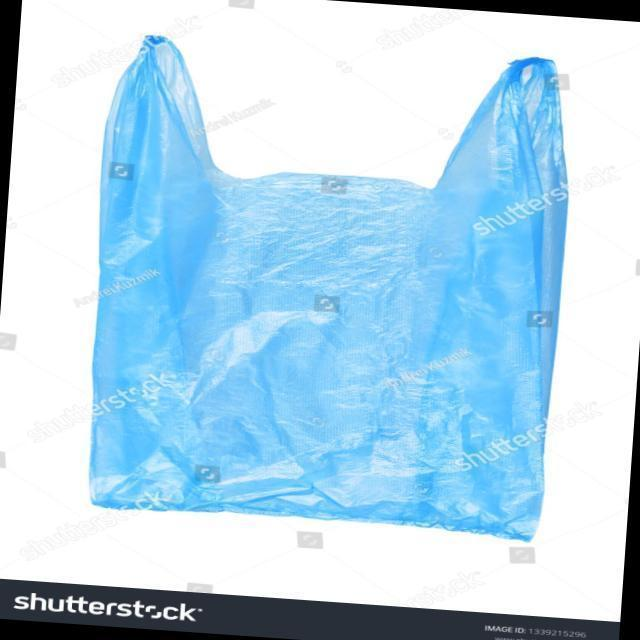Plastic_Bag: (77, 30, 576, 540)
